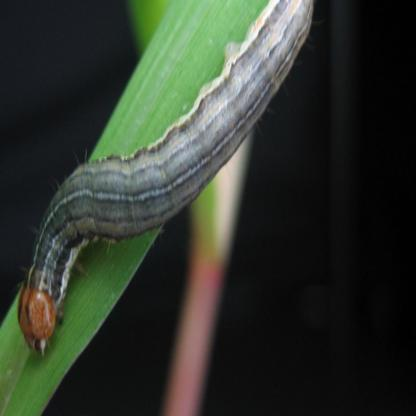armyworm: (11, 0, 325, 365)
